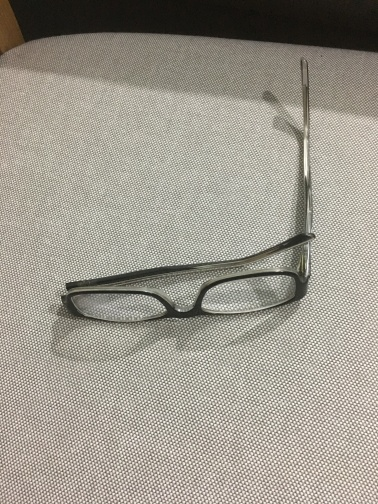glasses: (44, 232, 349, 341)
